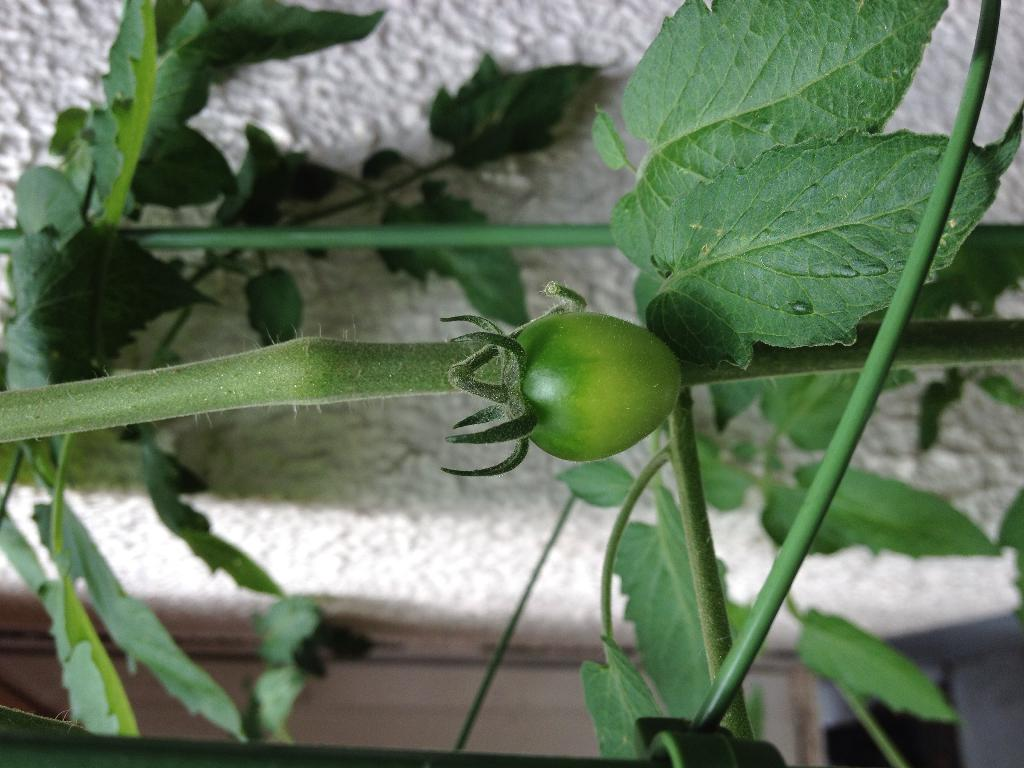Tomato: (431, 284, 685, 470)
